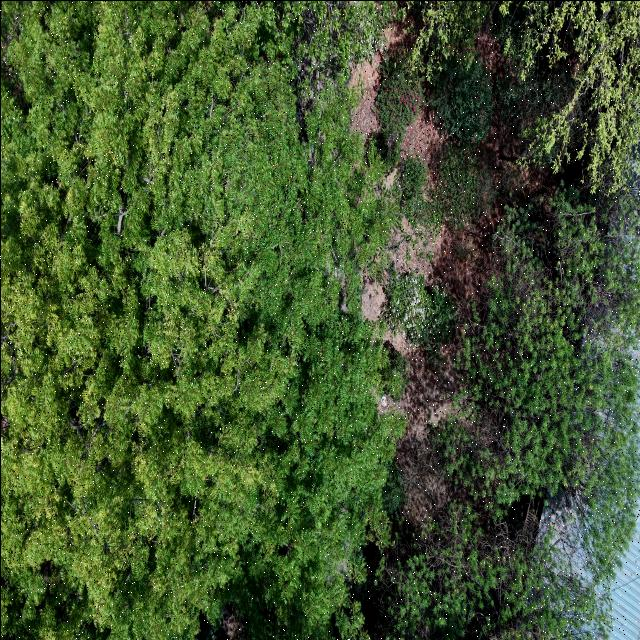DRY_AREA: (391, 111, 554, 314), (380, 329, 464, 525), (379, 330, 458, 522), (397, 347, 464, 525), (478, 110, 558, 198), (396, 430, 468, 527), (433, 209, 500, 303), (398, 348, 459, 439), (391, 217, 444, 281), (391, 217, 443, 282), (390, 231, 444, 283), (401, 103, 443, 168), (352, 52, 382, 137), (352, 52, 381, 136), (402, 107, 443, 166), (362, 275, 385, 320), (217, 604, 244, 639)
VEGETATION_TREE: (1, 1, 639, 639), (1, 2, 402, 639), (375, 2, 639, 639), (377, 186, 639, 639), (444, 187, 639, 514), (411, 1, 639, 192), (375, 501, 611, 639), (499, 1, 639, 192), (277, 1, 397, 117), (278, 1, 397, 81), (400, 141, 494, 240), (493, 56, 573, 161), (420, 141, 493, 235), (411, 1, 490, 80), (428, 56, 493, 142), (385, 272, 456, 348), (376, 51, 423, 146), (400, 157, 426, 225), (381, 343, 407, 401), (383, 461, 405, 518)
